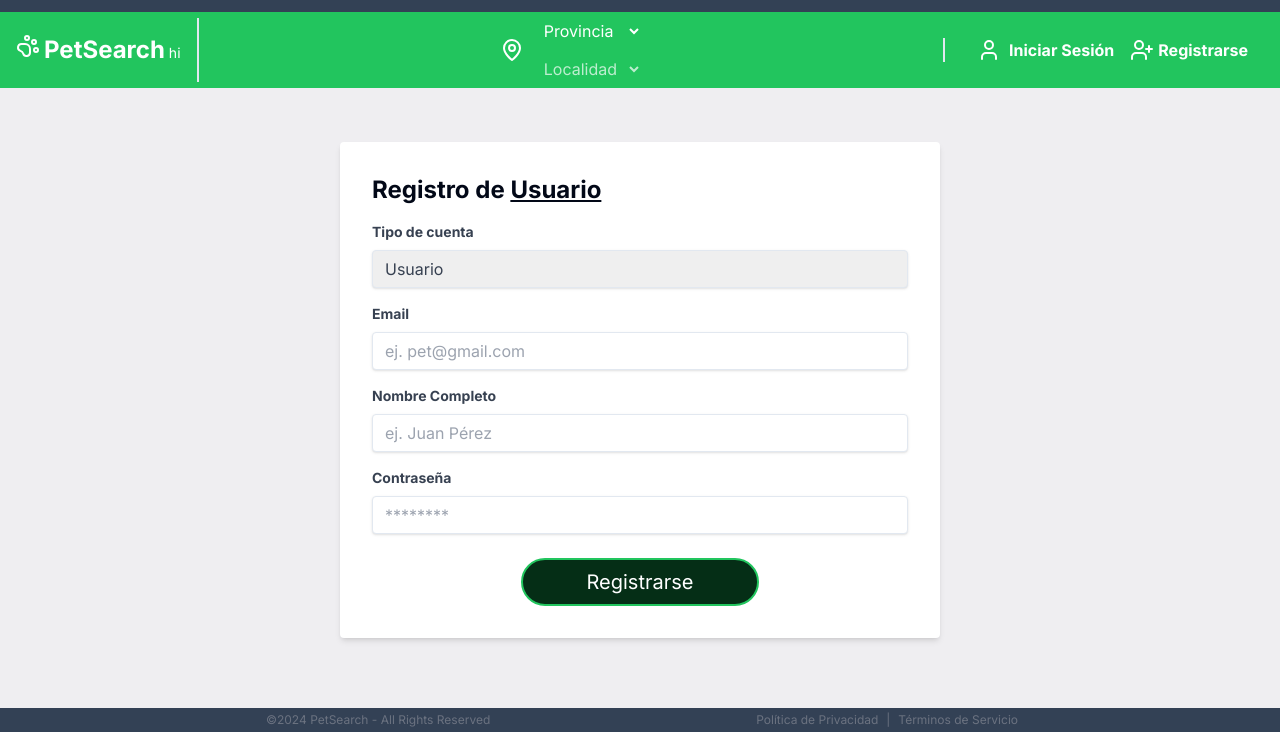
Test: Register › should display new layout when changing user type
Select "Rescatista" in the dropdown named "type" at x=640, y=269, box [372,250,908,288]
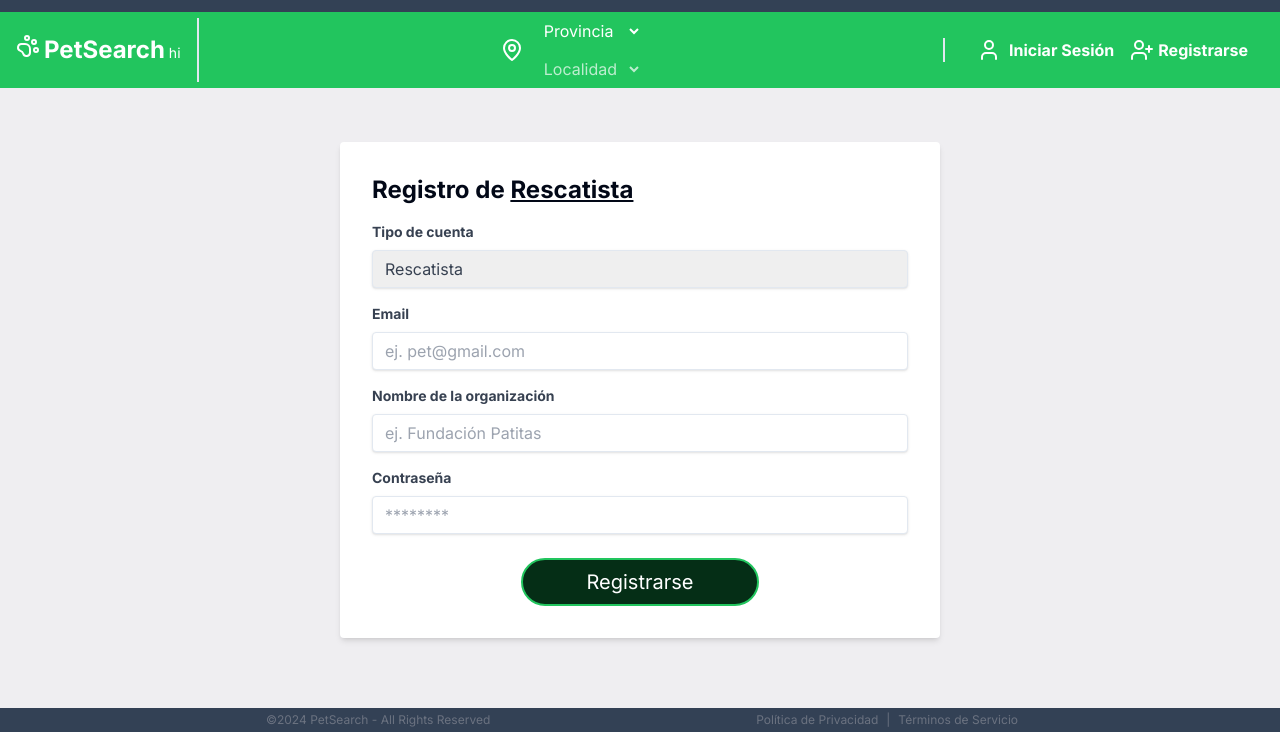
Expected: the field named "email" is shown, [372,332,908,370]
Expected: the text with class "underline" reads "Rescatista", [510,175,633,204]
Expected: the label with class "block" shows "organización", [372,387,555,404]
